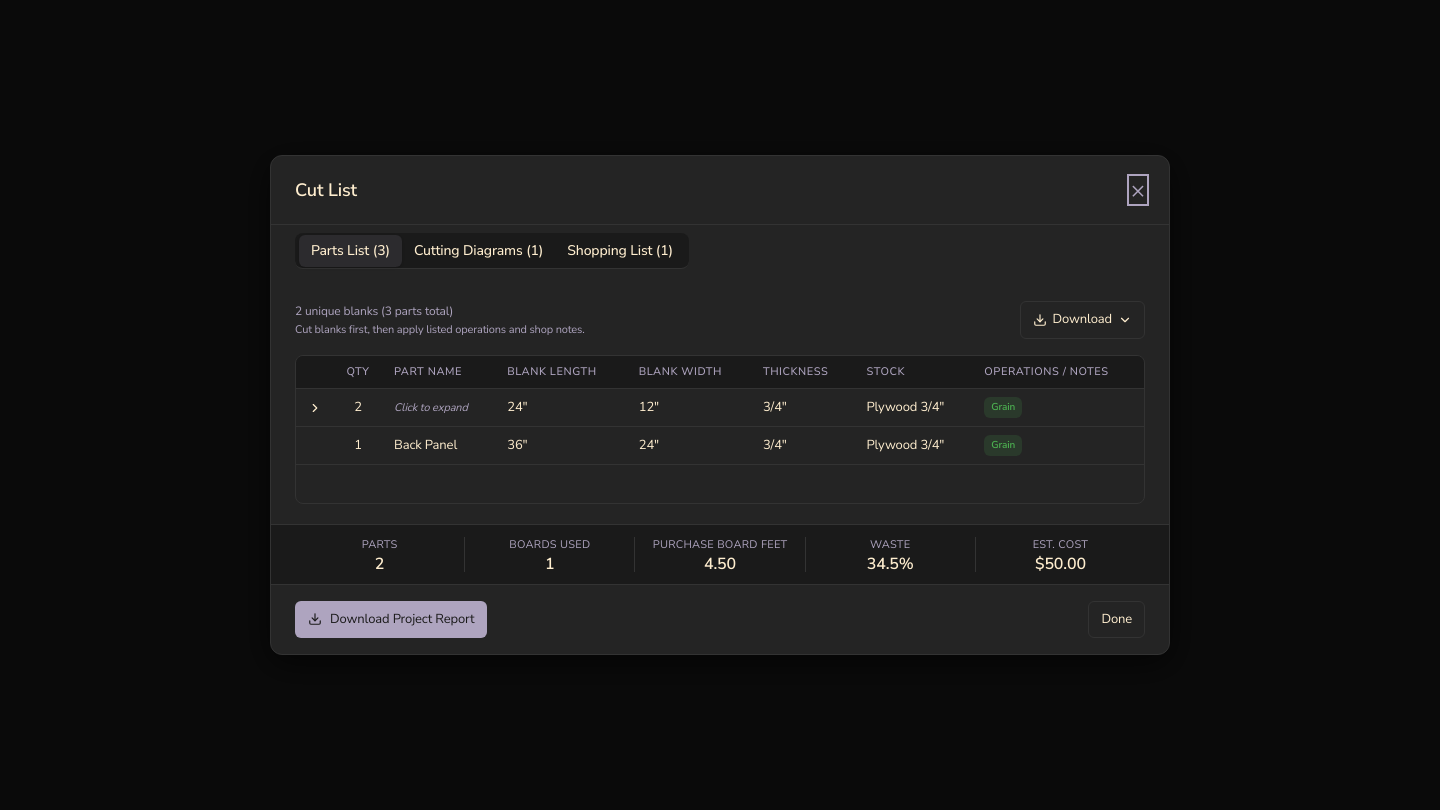
Test: CutListModal › grouped parts list › expands group when clicked
Note: Click on the expandable row
Click the text "Click to expand" at point(720, 408), box [296,388,1144,426]
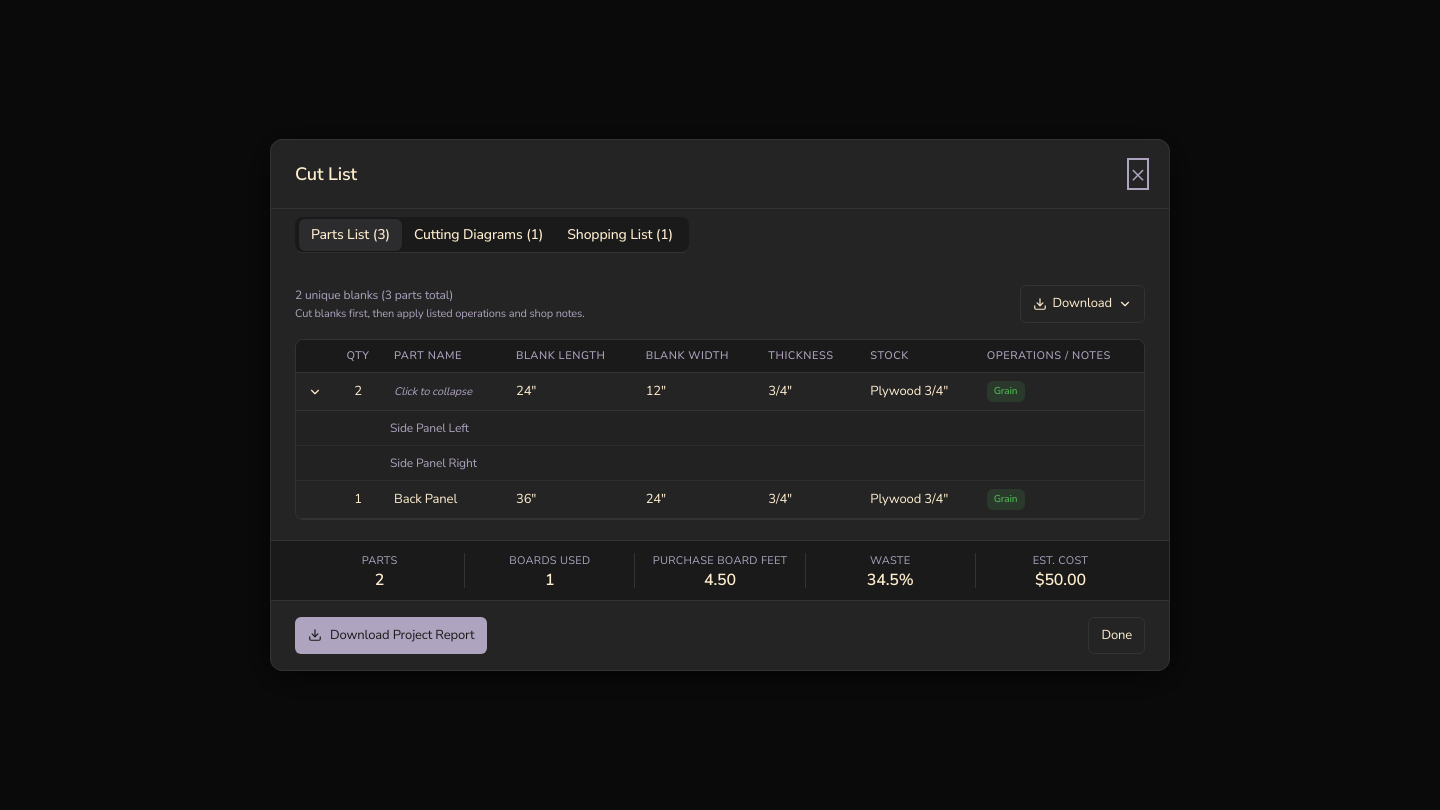
Check: the text "Side Panel Left" is shown, box [382,410,504,446]
Check: the text "Side Panel Right" is shown, box [382,446,504,480]
